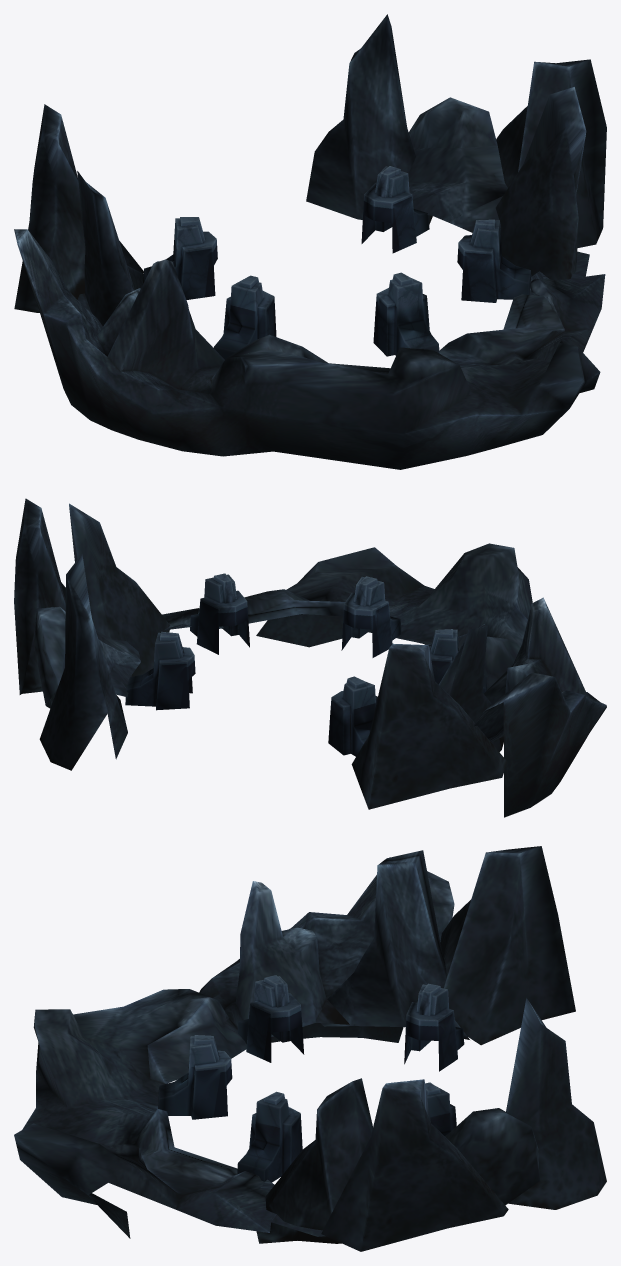
The model's file is Background.fbx.
3 views of the same model, one above another, from view 1: azimuth 30°, elevation 25°; view 2: azimuth 150°, elevation 25°; view 3: azimuth 270°, elevation 25° (orthographic). The views are drawn at different scales.
Visible parts, largest first — view 1: Background; view 2: Background; view 3: Background.
Boxes of the visible parts, x1,y1,x2,y2 form: Background: (14, 14, 606, 469); Background: (14, 498, 606, 817); Background: (14, 846, 606, 1251).
Size of the model in its own units: 481 by 185 by 420.
1 material, 1 textured.
